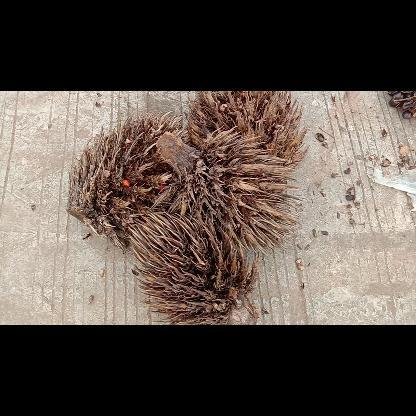Janjang kosong: (155, 130, 302, 254), (70, 113, 188, 243), (130, 216, 262, 324), (187, 92, 309, 170)
